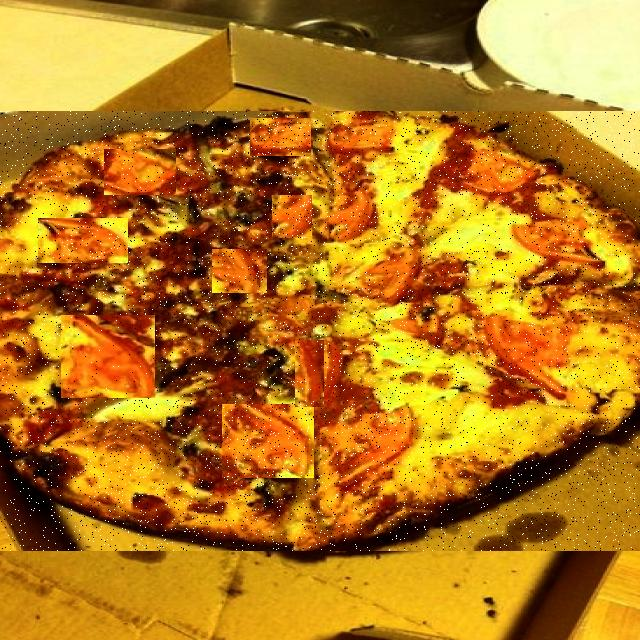Pizza: (0, 111, 640, 551)
Tomato: (61, 315, 155, 398), (222, 404, 314, 478), (38, 218, 128, 263), (105, 149, 177, 195), (212, 249, 267, 293), (250, 118, 311, 156), (296, 340, 326, 407), (272, 196, 312, 240)
